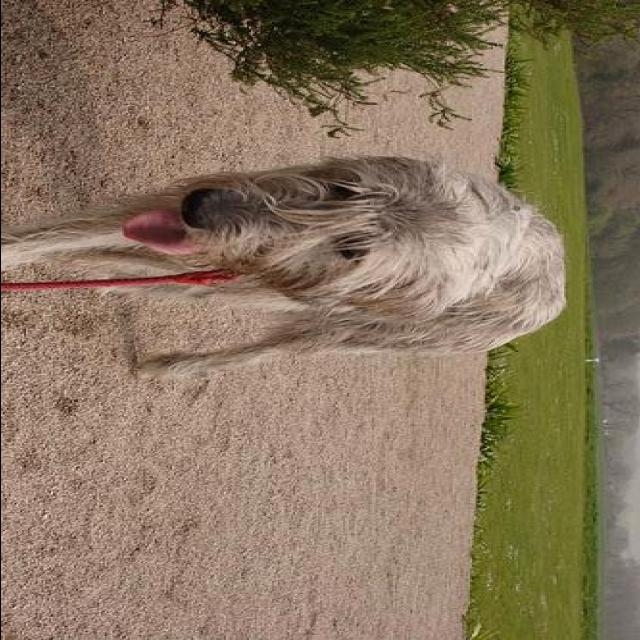irish_wolfhound: (2, 151, 567, 384)
